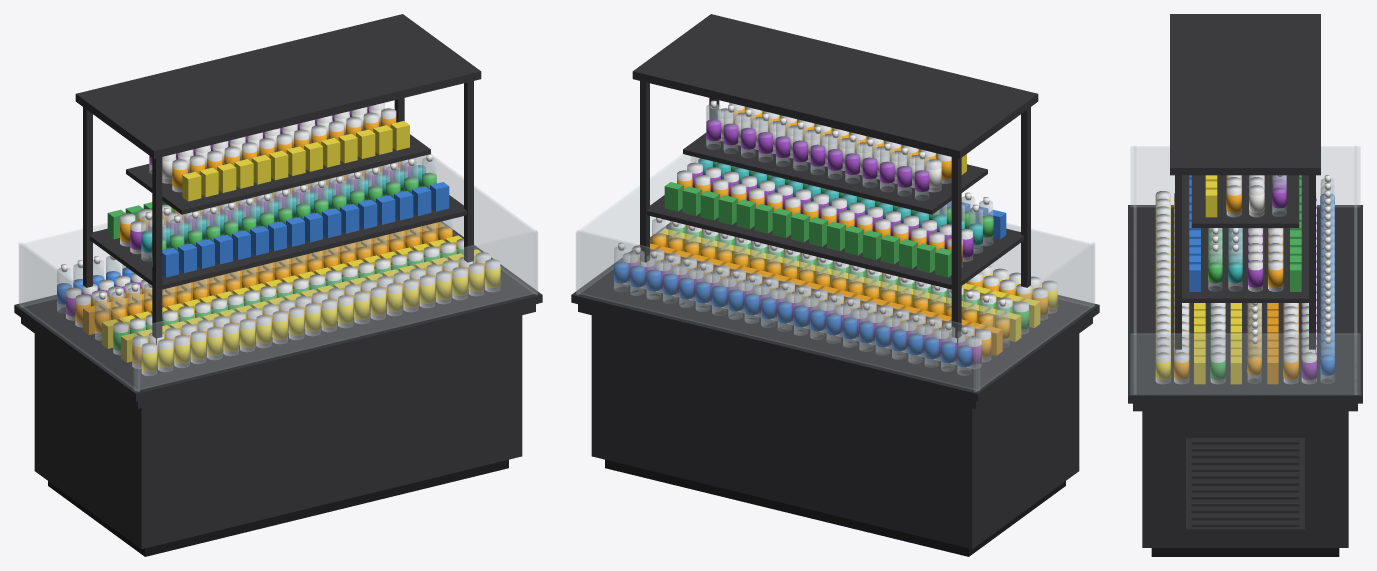
File: Island_Cooler_L72in.glb
The picture shows the model from 3 angles, left to right: view 1: azimuth 30°, elevation 25°; view 2: azimuth 150°, elevation 25°; view 3: azimuth 270°, elevation 25°; orthographic projection. The views are drawn at different scales.
Parts seen in each view (by area): view 1: Island_Cooler_L72in_Export; view 2: Island_Cooler_L72in_Export; view 3: Island_Cooler_L72in_Export.
Part boxes in pixels (left/top/right/bottom): Island_Cooler_L72in_Export: left=14, top=14, right=542, bottom=556; Island_Cooler_L72in_Export: left=571, top=14, right=1099, bottom=556; Island_Cooler_L72in_Export: left=1128, top=14, right=1362, bottom=556.
Bounding box in the file's own units: 1.91 × 1.77 × 0.99.
